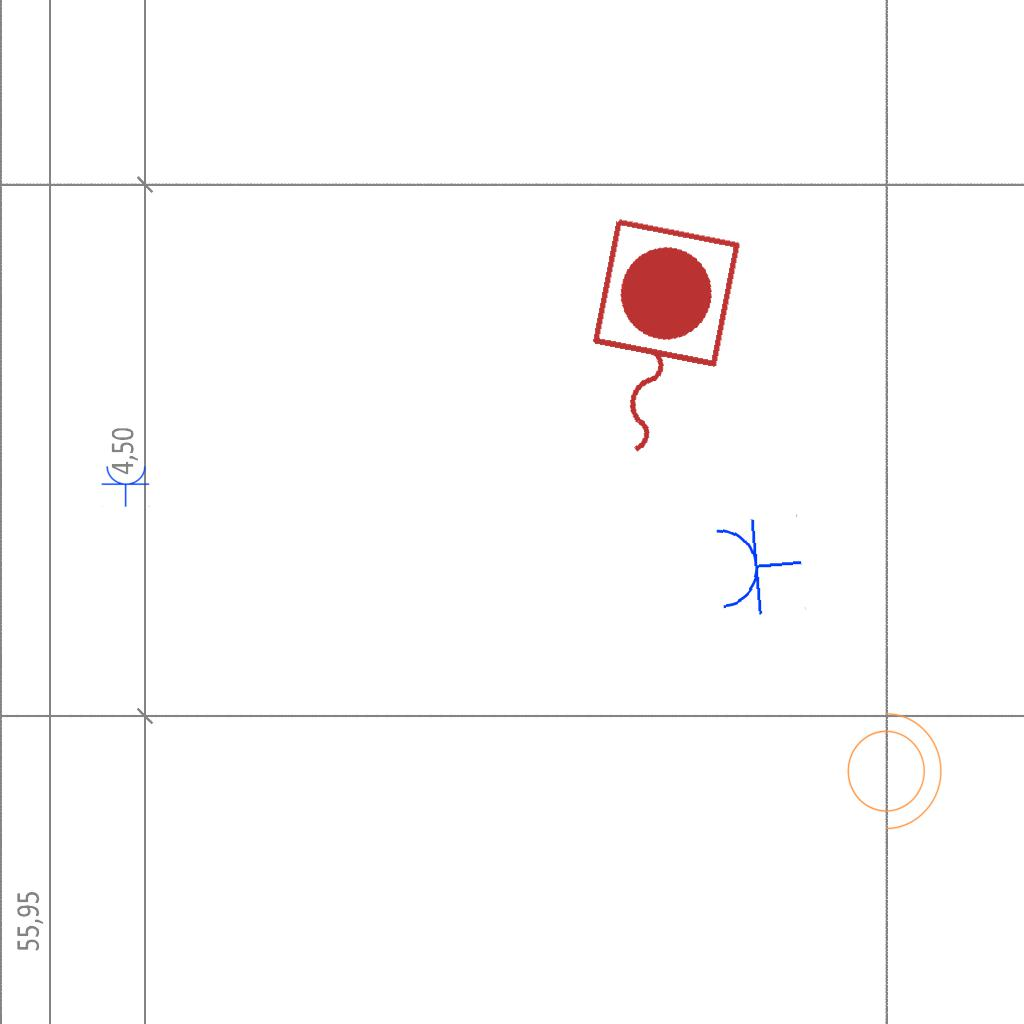Scheinwerfer_fuer_Alarmbeleuchtung: (835, 702, 947, 834)
Schukosteckdose_einfach: (711, 511, 807, 620), (101, 464, 151, 507)
Zugtaster: (561, 208, 749, 476)
